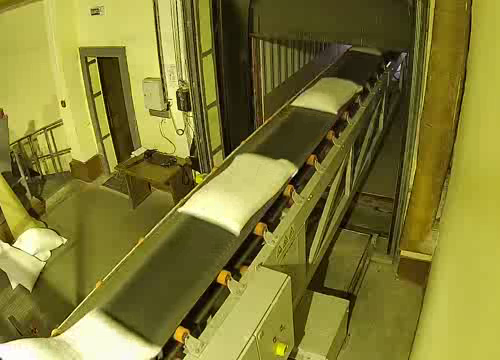bag: (170, 149, 312, 235), (0, 303, 168, 360), (289, 74, 365, 115), (347, 44, 388, 56)
